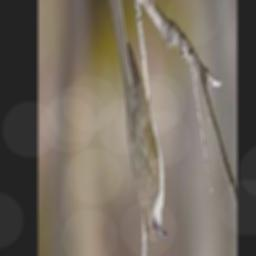Cuckoo: (104, 0, 169, 243)
